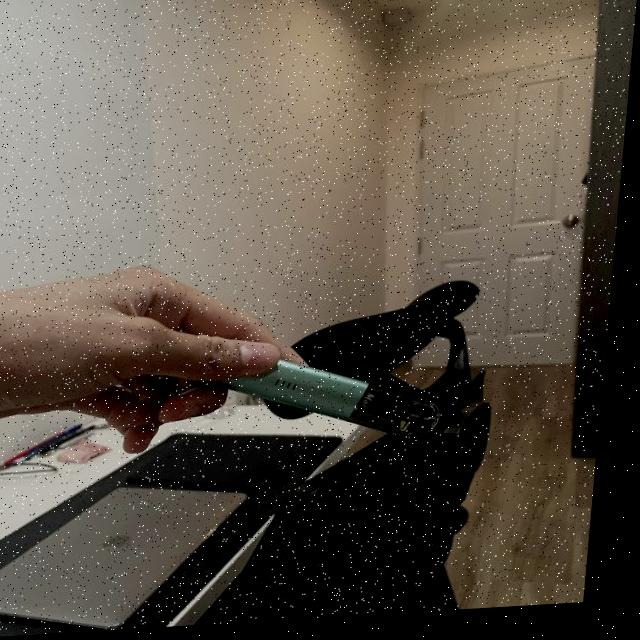vape: (227, 360, 455, 461)
